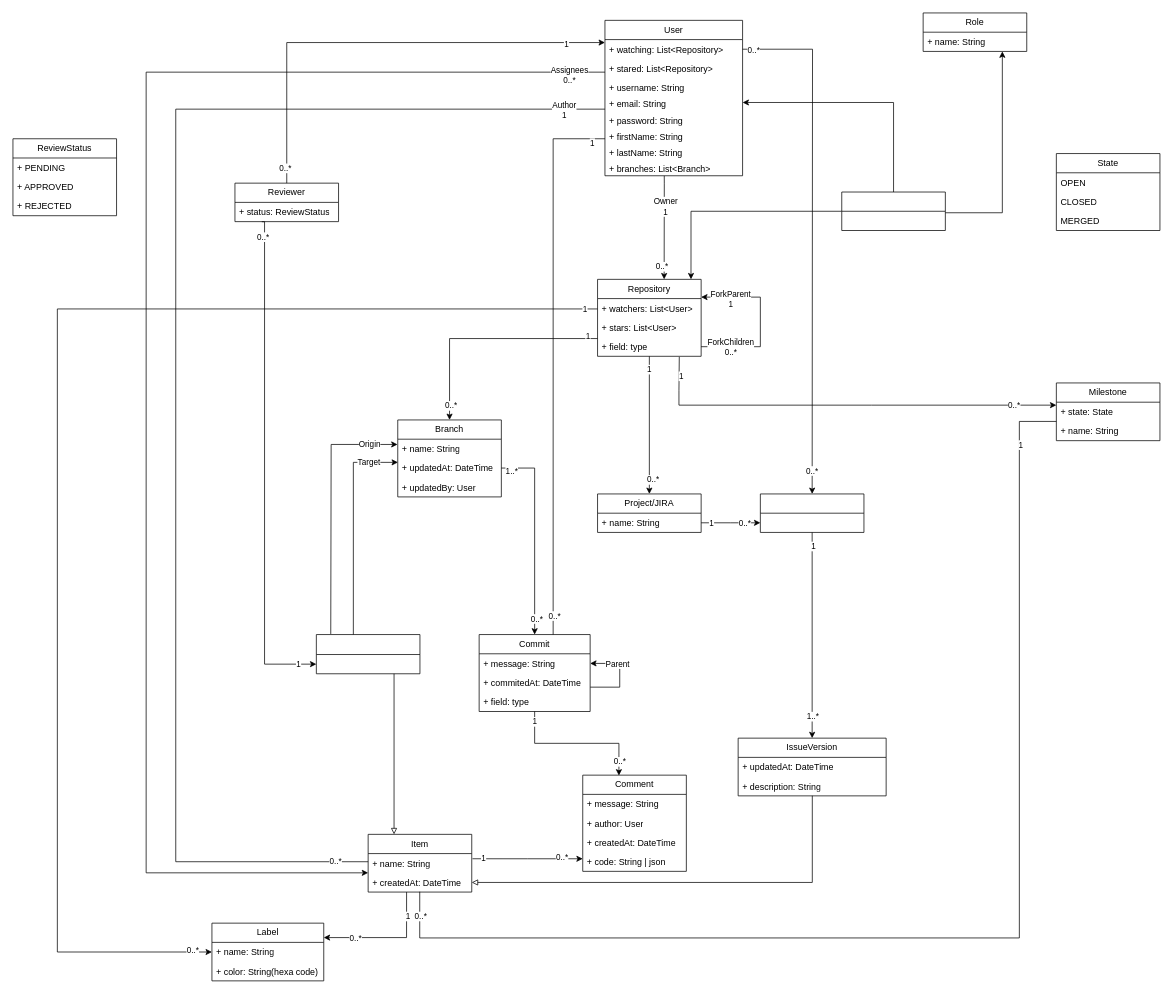
This 1173x996 diagram has some shape labels left out. Each missing label, with the centre of its shape:
Issue: point 812,512
Member: point 893,211
Pull Request: point 368,654
